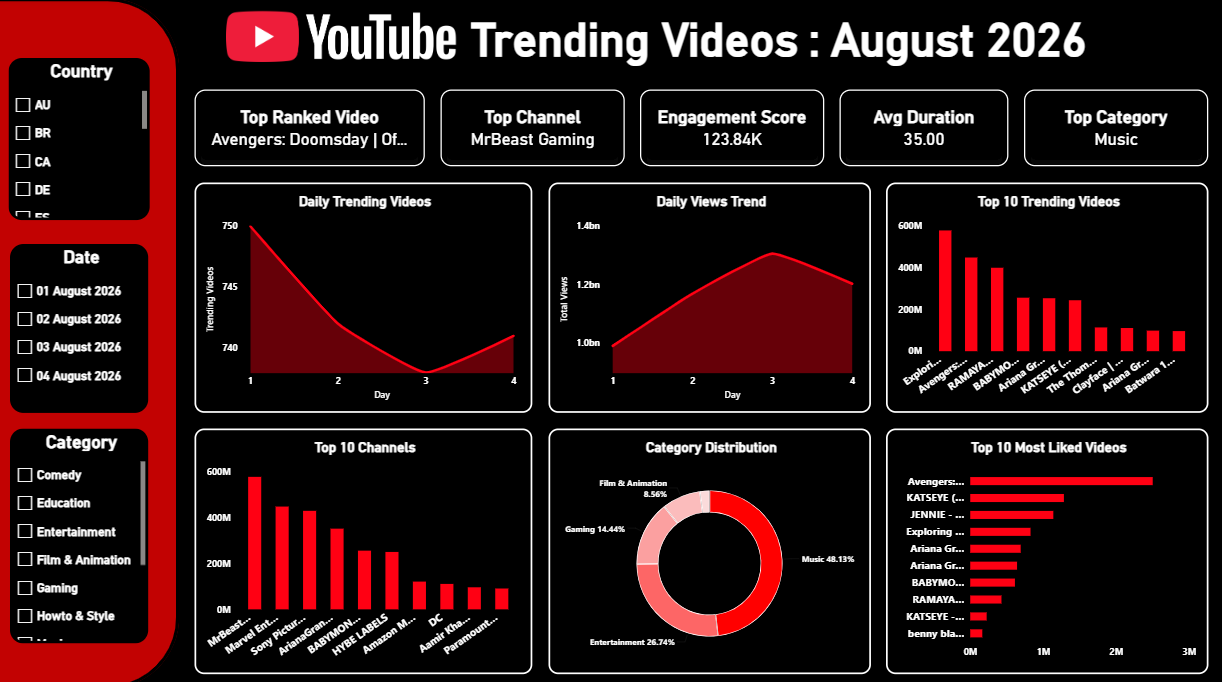

What the dashboard file says about the page in this screenshot:
{"tool":"powerbi","page":{"name":"Page 1","canvas":[1920,1080],"ordinal":0},"visuals":[{"type":"image","box":[360,0,360,120],"z":0},{"type":"textbox","box":[744,24,1008,96],"z":1000},{"type":"cardVisual","title":"Average Duration","fields":{"Data":["List of Measures.Avg Duration"]},"box":[1320,144,264,120],"z":2000},{"type":"shape","box":[0,0,288,1080],"z":3000},{"type":"cardVisual","title":"Top Ranked Video","fields":{"Data":["List of Measures.Video Rank"]},"box":[312,144,360,120],"z":4000},{"type":"cardVisual","title":"Top Channel","fields":{"Data":["List of Measures.Top Channel"]},"box":[696,144,288,120],"z":5000},{"type":"cardVisual","title":"Top Category","fields":{"Data":["List of Measures.Top Category"]},"box":[1608,144,288,120],"z":6000},{"type":"slicer","title":"Country","fields":{"Values":["Aug 2026 YT.Country"]},"box":[21.1,93.8,220.4,253.2],"z":7000},{"type":"slicer","title":"Date","fields":{"Values":["Aug 2026 YT.Date_of_Record"]},"box":[24,384,216,264],"z":8000},{"type":"slicer","title":"Category","fields":{"Values":["Aug 2026 YT.Category"]},"box":[24,672,216,336],"z":9000},{"type":"cardVisual","title":"Engagement Score","fields":{"Data":["List of Measures.Engagement Score"]},"box":[1008,144,288,120],"z":10000},{"type":"lineChart","title":"Daily Trending Videos","fields":{"Category":["Aug 2026 YT.Date_of_Record.Variation.Date Hierarchy.Day"],"Y":["List of Measures.Trending Videos"]},"box":[312,288,528,360],"z":11000},{"type":"columnChart","title":"Top 10 Channels","fields":{"Category":["Aug 2026 YT.Channel"],"Y":["Sum(Aug 2026 YT.Views)"]},"box":[312,672,528,384],"z":12000},{"type":"areaChart","title":"Daily Views Trend","fields":{"Category":["Aug 2026 YT.Date_of_Record.Variation.Date Hierarchy.Day"],"Y":["List of Measures.Total Views"]},"box":[864,288,504,360],"z":13000},{"type":"columnChart","title":"Top 10 Trending Videos","fields":{"Category":["Aug 2026 YT.Title"],"Y":["List of Measures.Total Views"]},"box":[1392,288,504,360],"z":14000},{"type":"donutChart","title":"Category Distribution","fields":{"Category":["Aug 2026 YT.Category"],"Y":["CountNonNull(Aug 2026 YT.Title)"]},"box":[864,672,504,384],"z":15000},{"type":"barChart","title":"Top 10 Most Liked Videos ","fields":{"Category":["Aug 2026 YT.Title"],"Y":["Max(Aug 2026 YT.Likes)"]},"box":[1392,672,504,384],"z":16000}]}

Visuals, with their boxes in screenshot pixels (x1, y1, x2, y2), scaled from the page's 1920x1080 canvas onto the 1222x682 screenshot:
image: (229, 0, 458, 76)
textbox: (474, 15, 1115, 76)
"Average Duration" cardVisual: (840, 91, 1008, 167)
shape: (0, 0, 183, 681)
"Top Ranked Video" cardVisual: (199, 91, 428, 167)
"Top Channel" cardVisual: (443, 91, 626, 167)
"Top Category" cardVisual: (1023, 91, 1207, 167)
"Country" slicer: (13, 59, 154, 219)
"Date" slicer: (15, 242, 153, 409)
"Category" slicer: (15, 424, 153, 637)
"Engagement Score" cardVisual: (642, 91, 825, 167)
"Daily Trending Videos" lineChart: (199, 182, 535, 409)
"Top 10 Channels" columnChart: (199, 424, 535, 667)
"Daily Views Trend" areaChart: (550, 182, 871, 409)
"Top 10 Trending Videos" columnChart: (886, 182, 1207, 409)
"Category Distribution" donutChart: (550, 424, 871, 667)
"Top 10 Most Liked Videos " barChart: (886, 424, 1207, 667)
